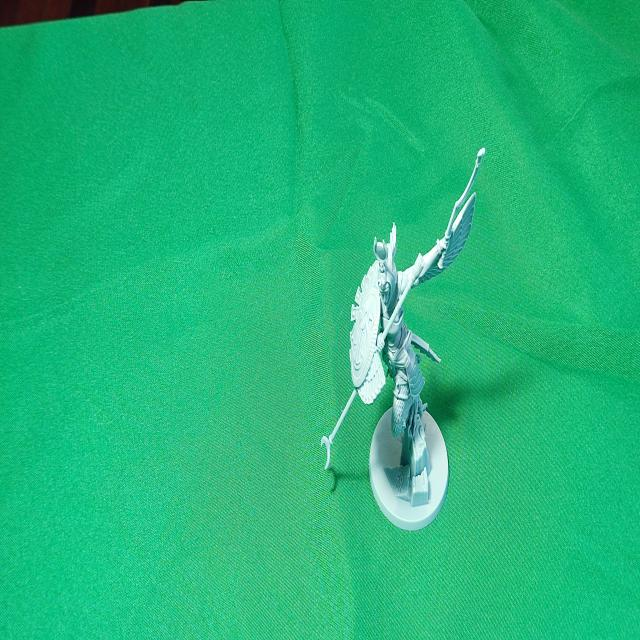isis: (312, 116, 500, 553)
